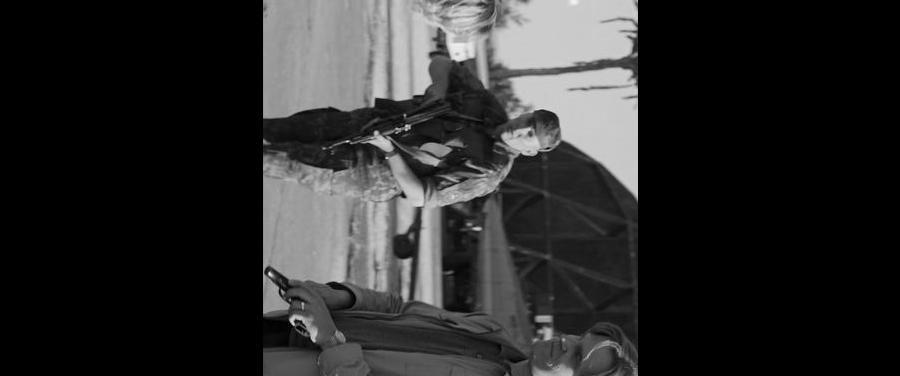gun: (320, 99, 454, 151), (262, 263, 313, 338), (355, 0, 433, 30)
